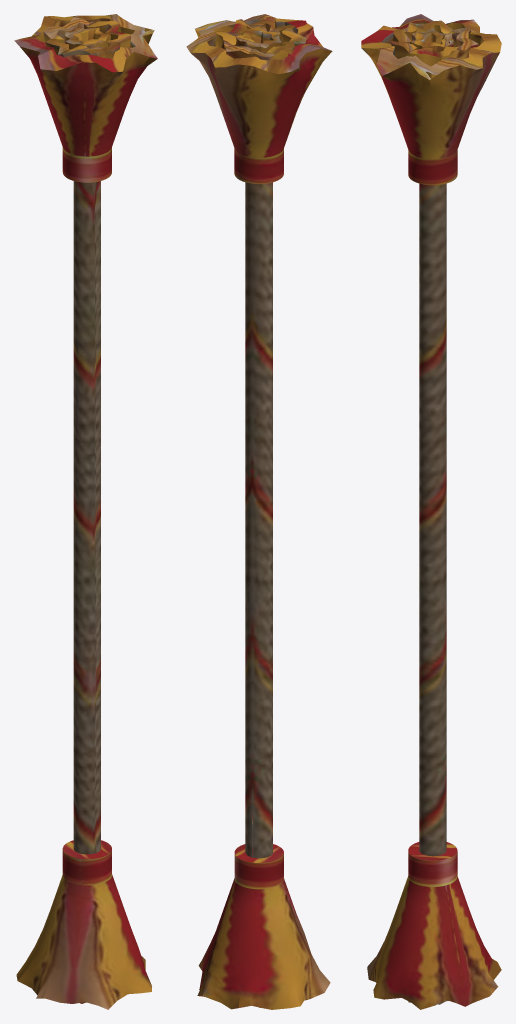
File: Devil Stick Middle.fbx
The picture shows the model from 3 angles, left to right: view 1: azimuth 30°, elevation 25°; view 2: azimuth 150°, elevation 25°; view 3: azimuth 270°, elevation 25°; orthographic projection.
Visible parts, largest first — view 1: Devil Stick Mid; view 2: Devil Stick Mid; view 3: Devil Stick Mid.
Part boxes in pixels (bbox=[...]): Devil Stick Mid: bbox=[14, 14, 157, 1009]; Devil Stick Mid: bbox=[186, 14, 332, 1009]; Devil Stick Mid: bbox=[361, 14, 501, 1009].
Bounding box in the file's own units: 59.25 × 428 × 57.38.
Materials: 2 (2 with a texture image).
